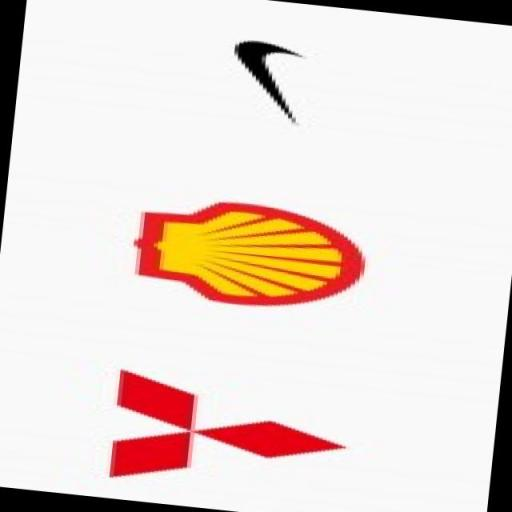Nike: (214, 28, 319, 130)
